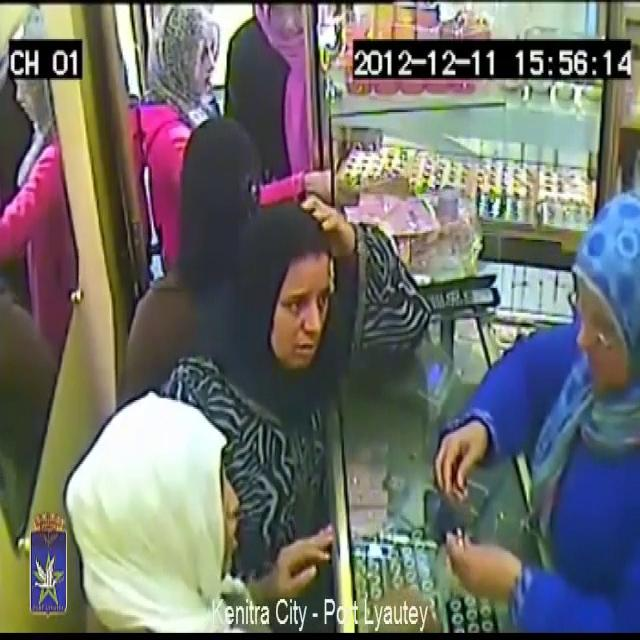normal: (426, 186, 639, 640), (58, 393, 338, 640), (142, 1, 384, 238), (235, 210, 365, 418), (166, 108, 261, 283), (242, 0, 317, 132)
